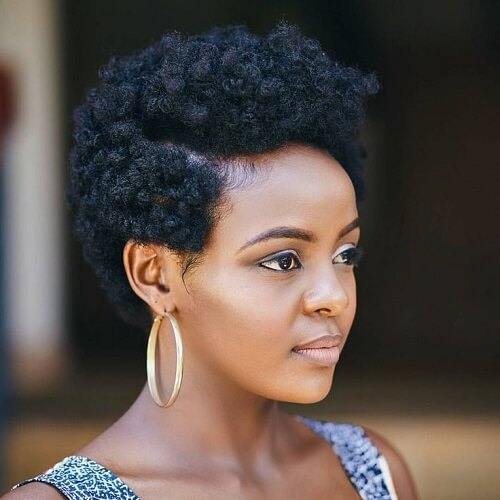bare: (185, 278, 361, 405)
